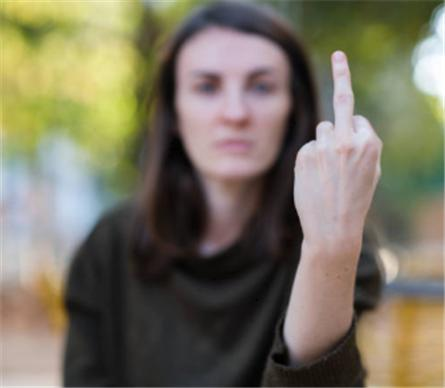insulting_gesture: (293, 50, 382, 221)
